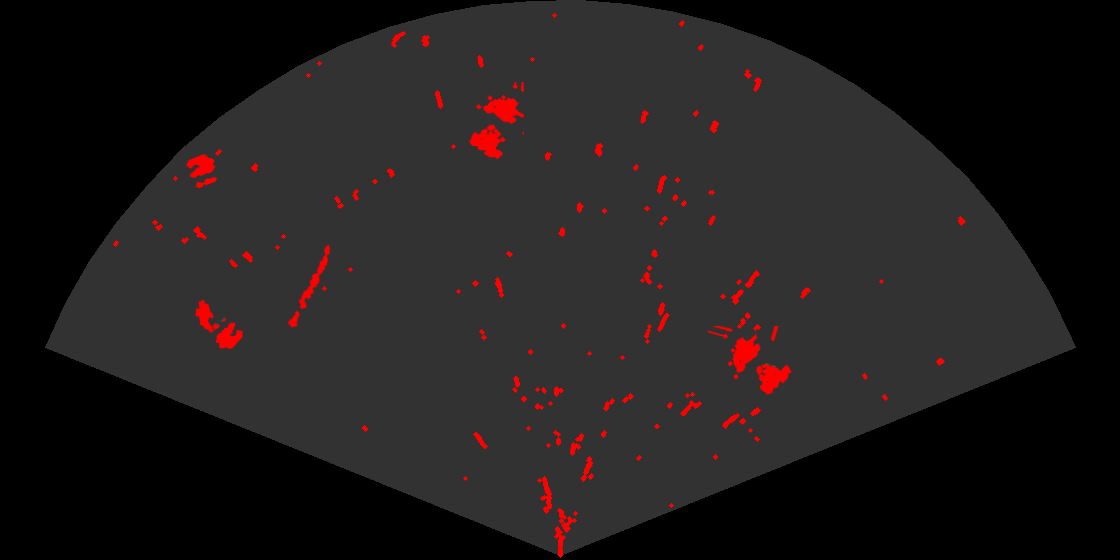AUV: (193, 298, 215, 334)
ball: (207, 317, 245, 351), (185, 153, 219, 190)
cage: (708, 326, 793, 396), (468, 82, 524, 161)
chain: (286, 243, 332, 330)
